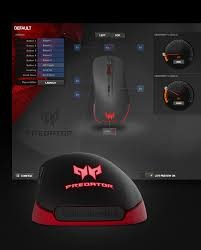mouse: (26, 147, 177, 245)
